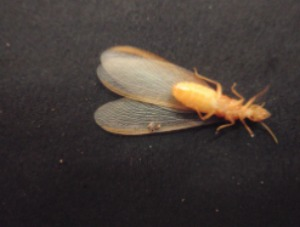flying termite: (84, 36, 280, 155)
